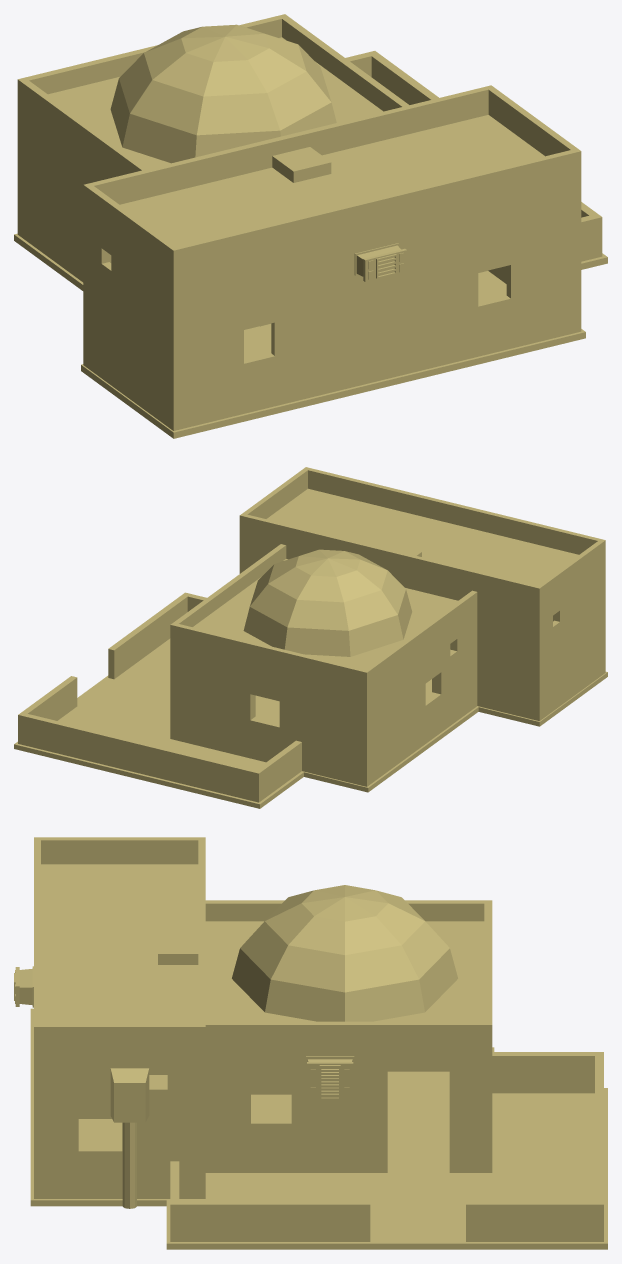
File: DesertBuilding3.fbx
The picture shows the model from 3 angles, top to bottom: view 1: azimuth 30°, elevation 25°; view 2: azimuth 150°, elevation 25°; view 3: azimuth 270°, elevation 25°; orthographic projection. The views are drawn at different scales.
Parts seen in each view (by area): view 1: Cube.004, Sphere.003, Cube.005; view 2: Cube.004, Cube.005, Sphere.003; view 3: Cube.004, Cube.005, Sphere.003.
Part boxes in pixels (x1,y1,x2,y2): Cube.004: (17,14,581,430); Sphere.003: (110,24,336,163); Cube.005: (14,51,607,438); Cube.004: (170,467,605,786); Cube.005: (14,592,607,808); Sphere.003: (243,549,412,656); Cube.004: (14,837,492,1208); Cube.005: (30,1008,607,1249); Sphere.003: (232,885,457,1021).
Size of the model in its own units: 1249 by 540 by 1333.
